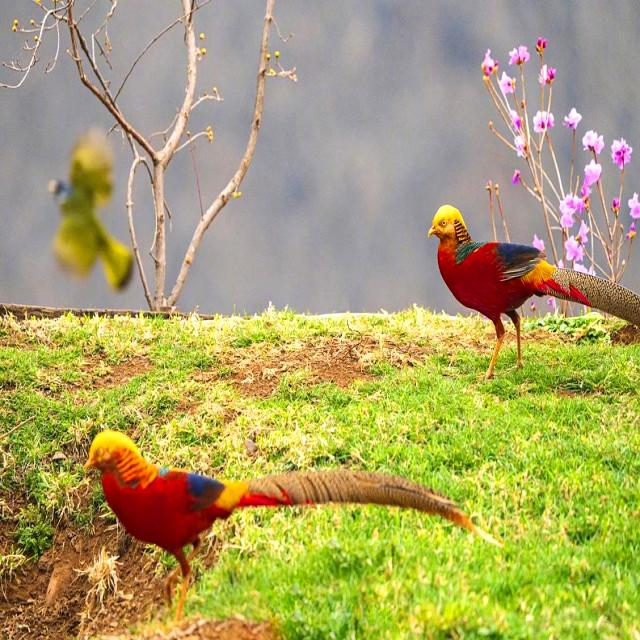Chrysolophus pictus feather: (244, 470, 500, 544), (550, 269, 640, 328)
